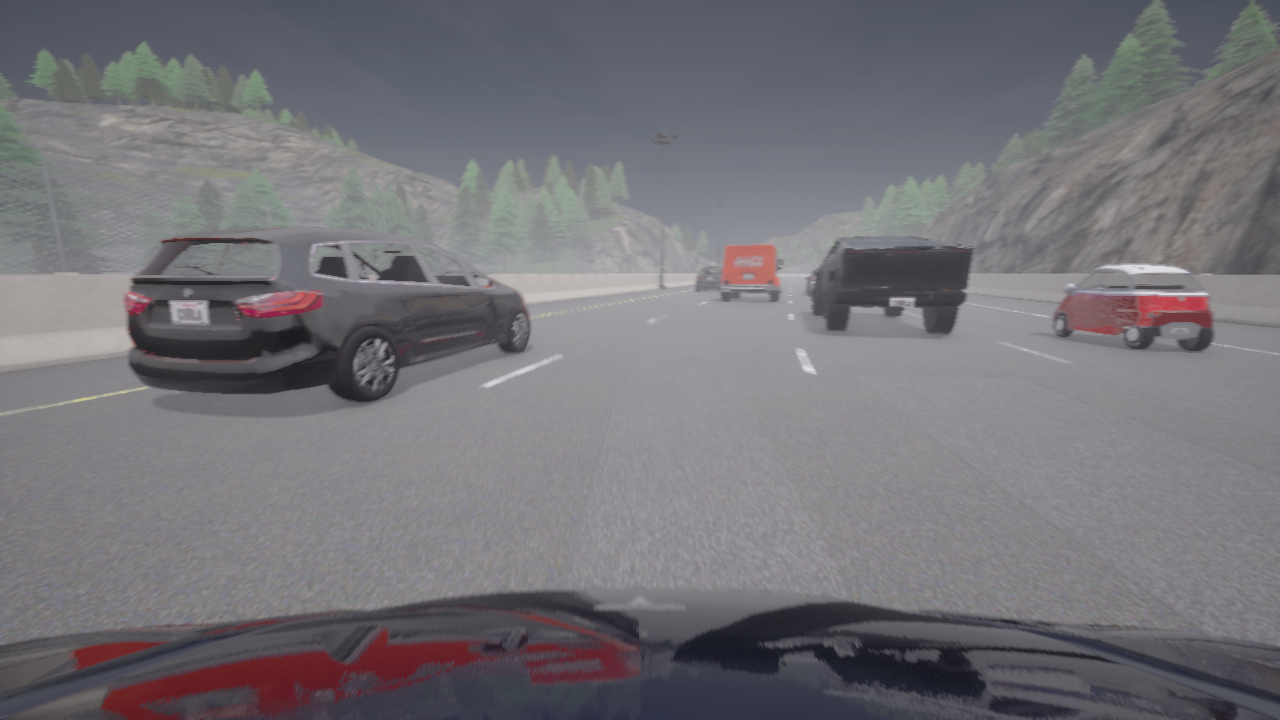cyclist: (0, 588, 1279, 719), (124, 227, 530, 402), (812, 236, 974, 333), (1053, 264, 1213, 351), (720, 244, 781, 300), (696, 267, 722, 290), (806, 268, 818, 295)
